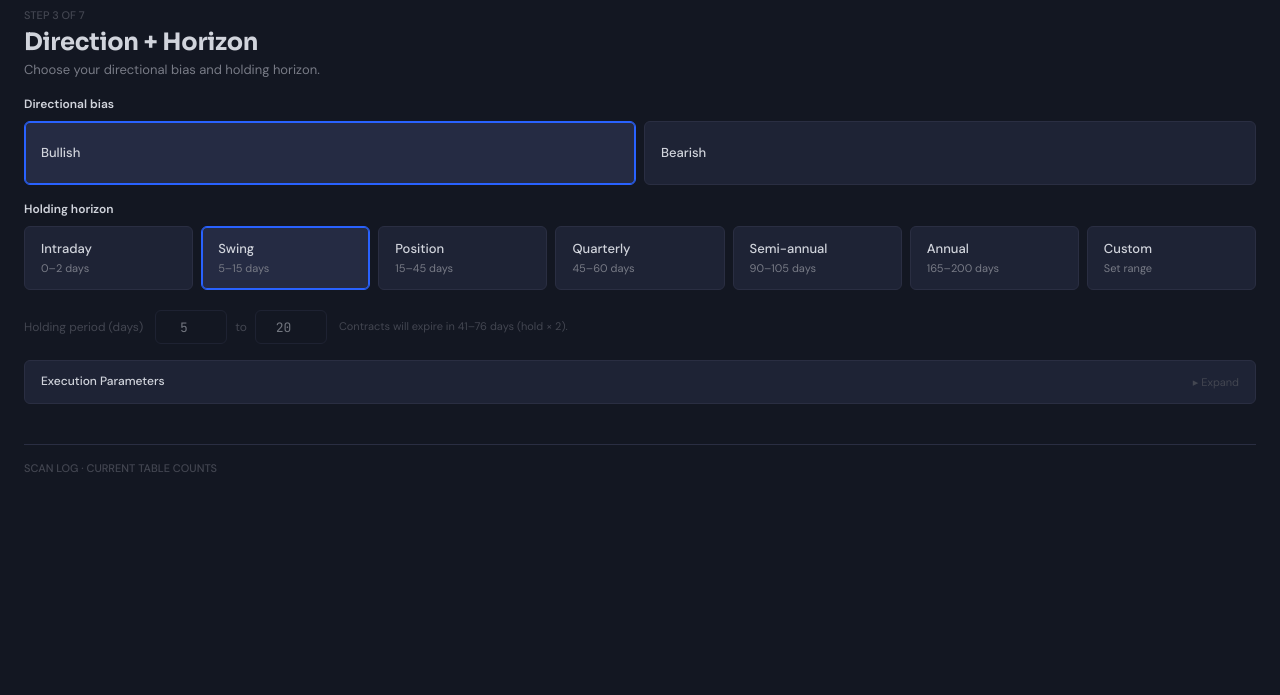
Test: Step 3 — Contract Min Stock Score Override (#389) › renders the contract floor parameter with default value from contract rules store
Click the text "Execution Parameters" at {"x": 103, "y": 382}, box [41, 373, 165, 391]
(page scrolled)
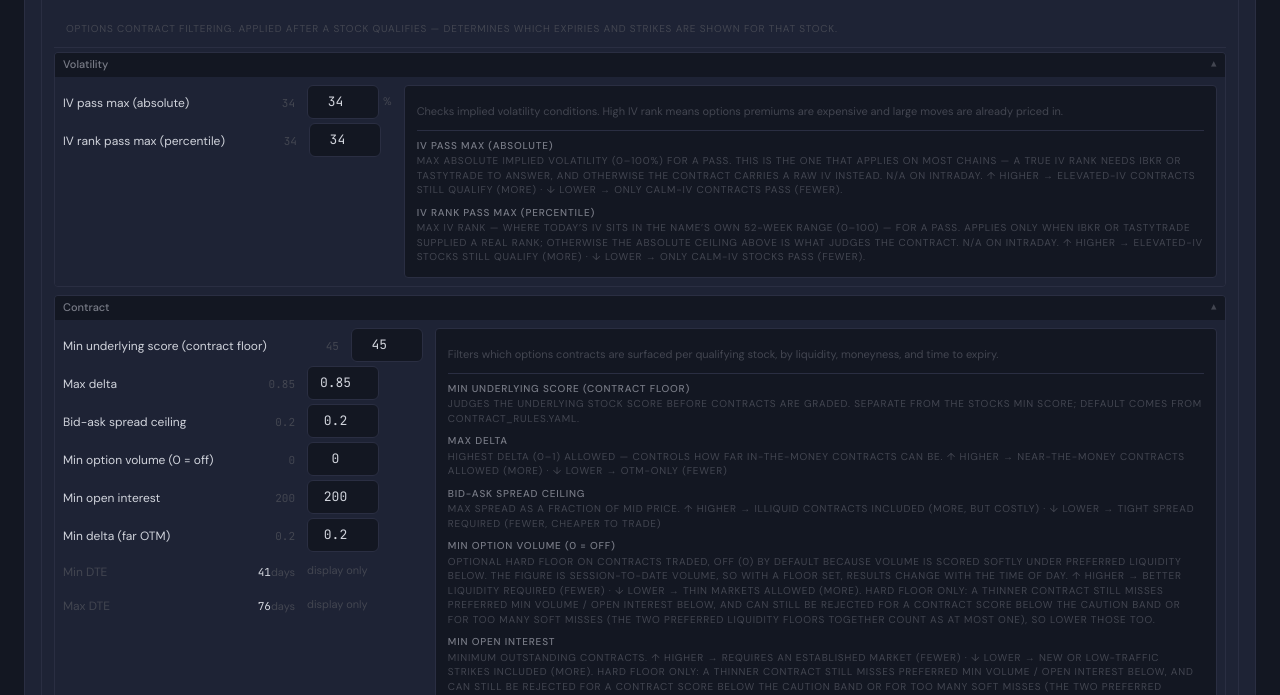
Check: the number field named "Min underlying score (contract floor)" holds "45", box [351, 328, 423, 362]
